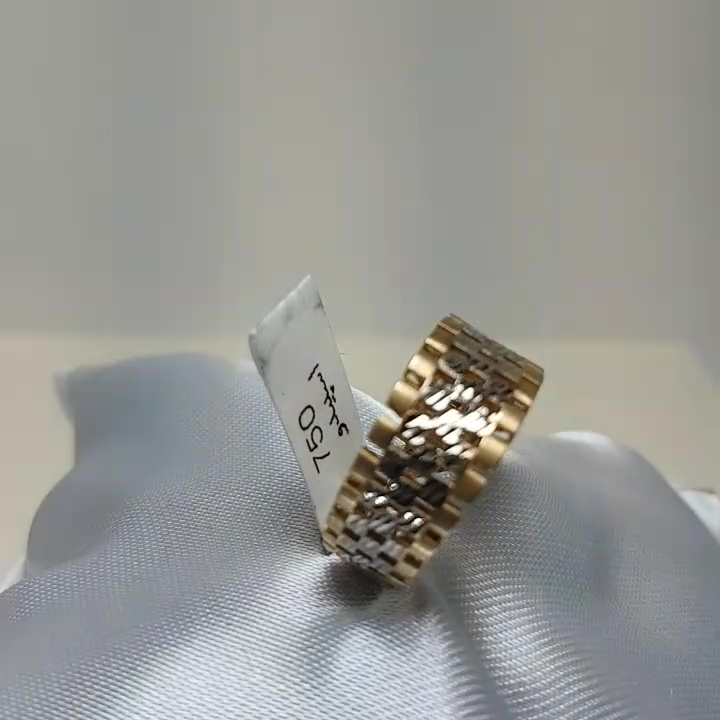Ring 1: (244, 281, 561, 603)
